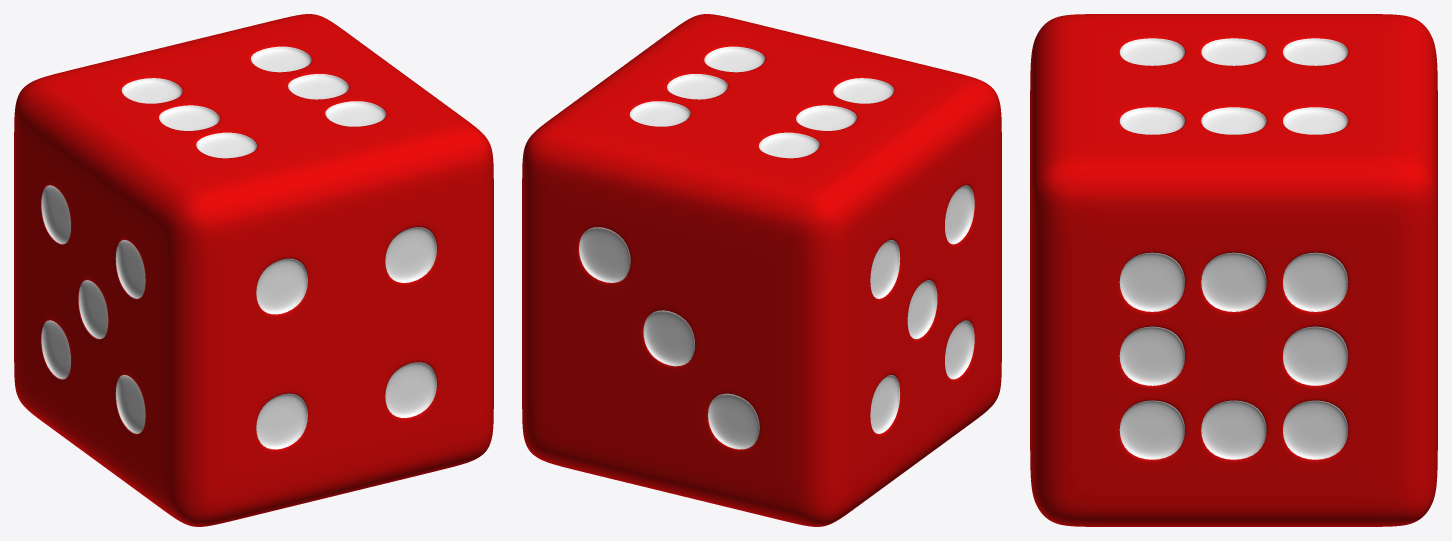
File: Dice3DWith7and8.glb
The picture shows the model from 3 angles, left to right: view 1: azimuth 30°, elevation 25°; view 2: azimuth 150°, elevation 25°; view 3: azimuth 270°, elevation 25°; orthographic projection. The views are drawn at different scales.
Visible parts, largest first — view 1: Cube; view 2: Cube; view 3: Cube.
Boxes of the visible parts, box(x1,y1,x2,y2) form: Cube: box(14, 14, 493, 526); Cube: box(522, 14, 1001, 526); Cube: box(1030, 14, 1437, 526).
Bounding box in the file's own units: 2 × 2 × 2.
